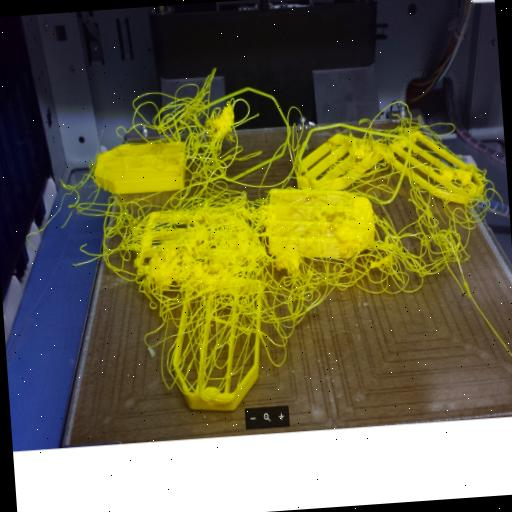spaghetti: (119, 186, 317, 368), (312, 198, 497, 296), (137, 69, 253, 203)
